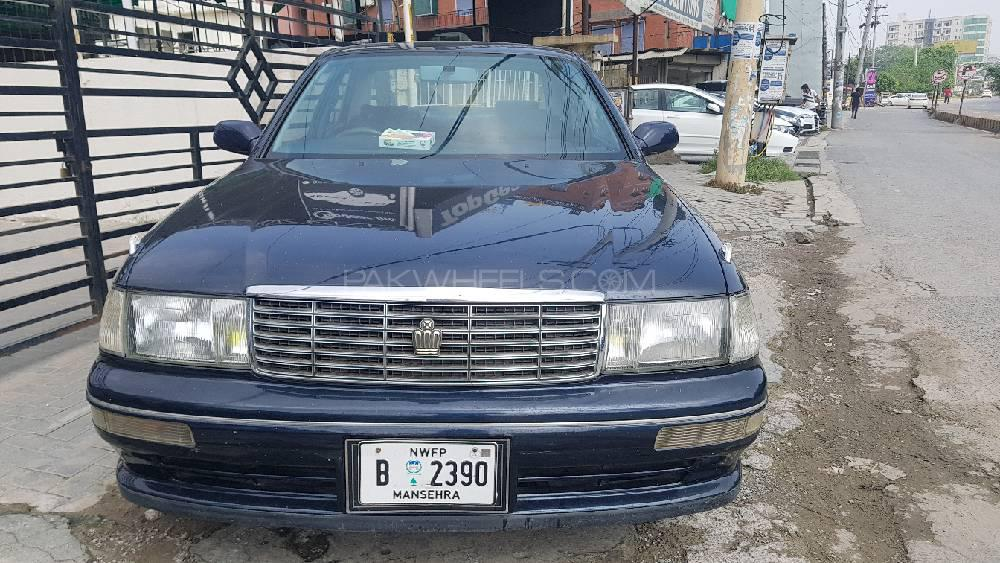license plate: (357, 440, 497, 509)
